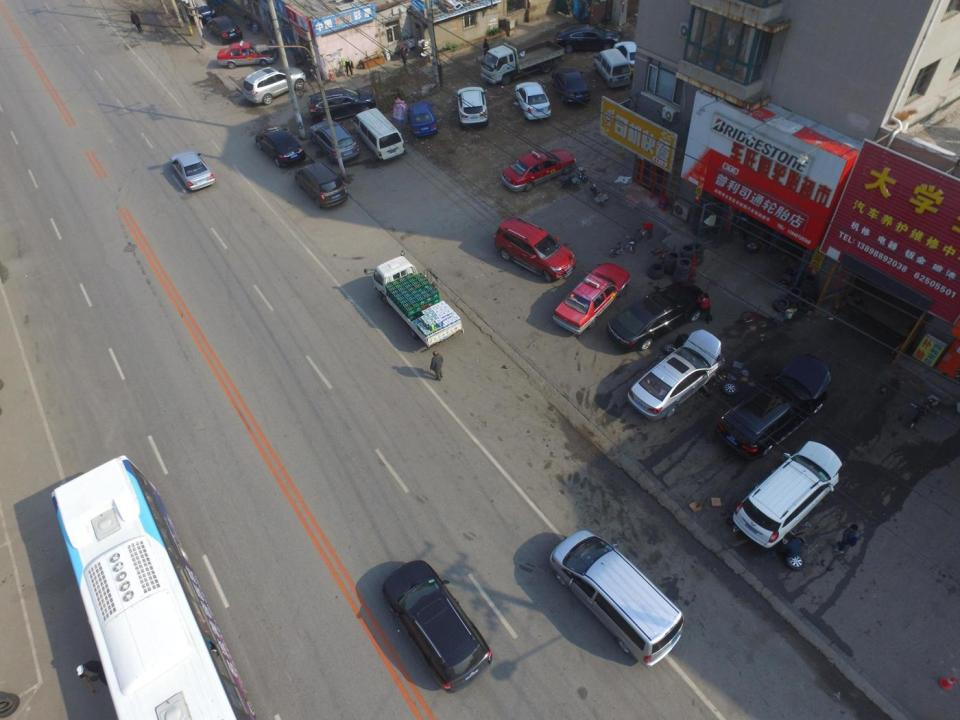bus: (50, 456, 259, 720)
car: (381, 558, 494, 695), (714, 353, 832, 460), (627, 329, 725, 422), (606, 282, 706, 352), (552, 261, 631, 335), (494, 216, 576, 284), (502, 148, 577, 192), (306, 86, 376, 123), (243, 67, 306, 104), (309, 119, 361, 163), (254, 126, 306, 168), (552, 24, 621, 53), (169, 149, 216, 191), (216, 41, 278, 70), (551, 67, 591, 106), (514, 81, 552, 121), (455, 86, 489, 127), (406, 101, 437, 138), (206, 15, 244, 45), (613, 41, 644, 76)
truck: (363, 249, 465, 348), (476, 39, 565, 86)
van: (548, 528, 684, 669), (732, 440, 844, 549), (354, 108, 406, 162), (295, 162, 348, 209), (593, 47, 632, 89)
